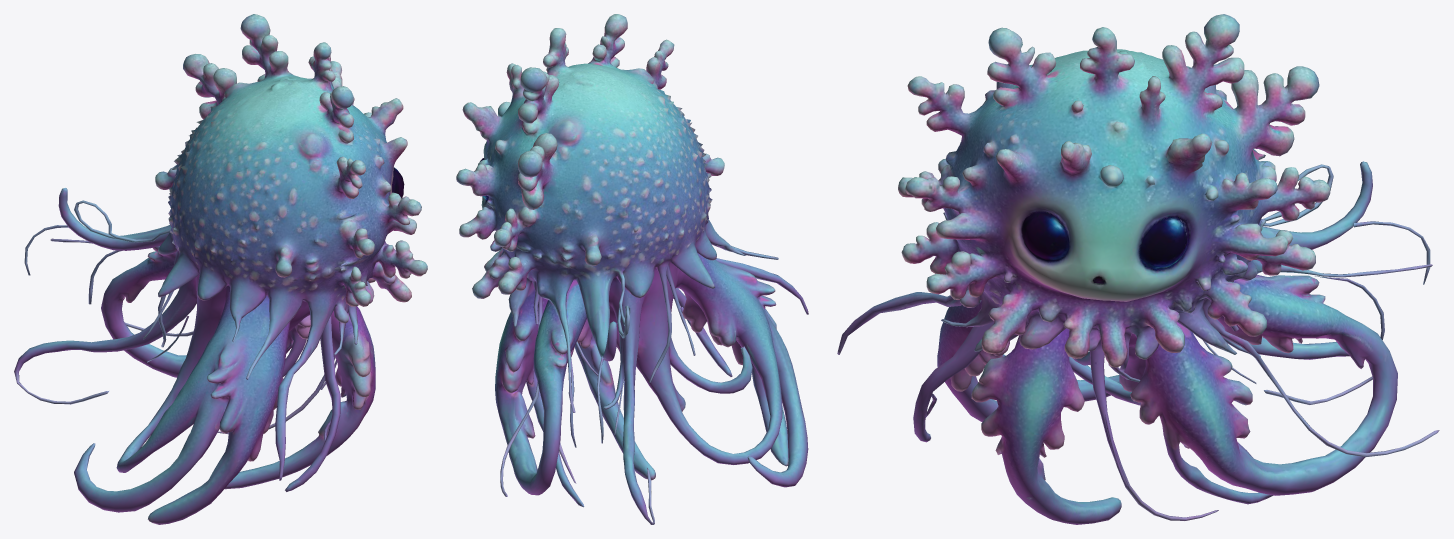
File: cute+underwater+creature+3d+model(1).glb
3 renders of one model, left to right at view 1: azimuth 30°, elevation 25°; view 2: azimuth 150°, elevation 25°; view 3: azimuth 270°, elevation 25°, orthographic. The views are drawn at different scales.
Visible parts, largest first — view 1: tripo_node_3f39cc1e-1481-4187-ab2e-a2d6f271b8d0; view 2: tripo_node_3f39cc1e-1481-4187-ab2e-a2d6f271b8d0; view 3: tripo_node_3f39cc1e-1481-4187-ab2e-a2d6f271b8d0.
Boxes of the visible parts, x1,y1,x2,y2 form: tripo_node_3f39cc1e-1481-4187-ab2e-a2d6f271b8d0: (14, 14, 427, 524); tripo_node_3f39cc1e-1481-4187-ab2e-a2d6f271b8d0: (456, 14, 808, 524); tripo_node_3f39cc1e-1481-4187-ab2e-a2d6f271b8d0: (837, 14, 1439, 524).
Size of the model in its own units: 0.729 by 0.9688 by 0.9707.
1 material, 1 textured.
